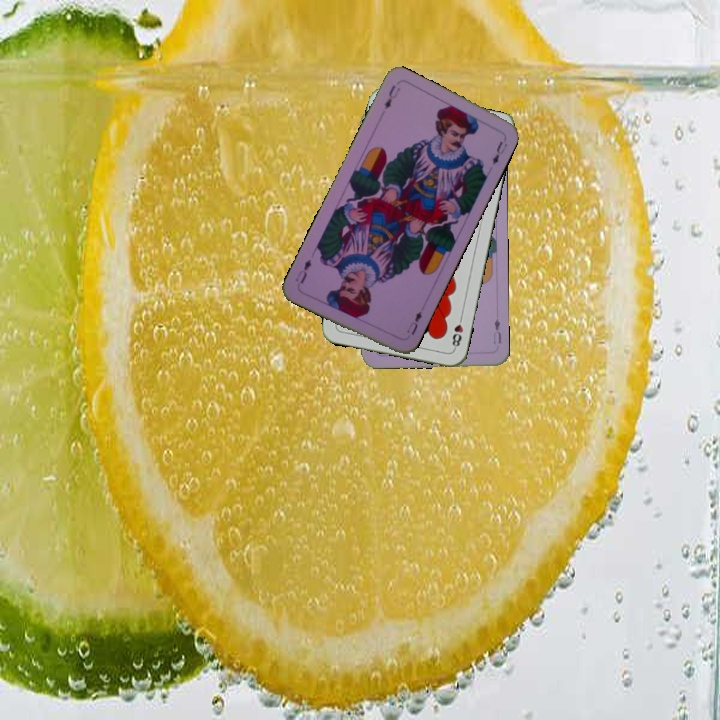EU: (380, 81, 403, 112), (403, 307, 424, 338), (489, 315, 504, 346)
H8: (448, 312, 466, 352)
